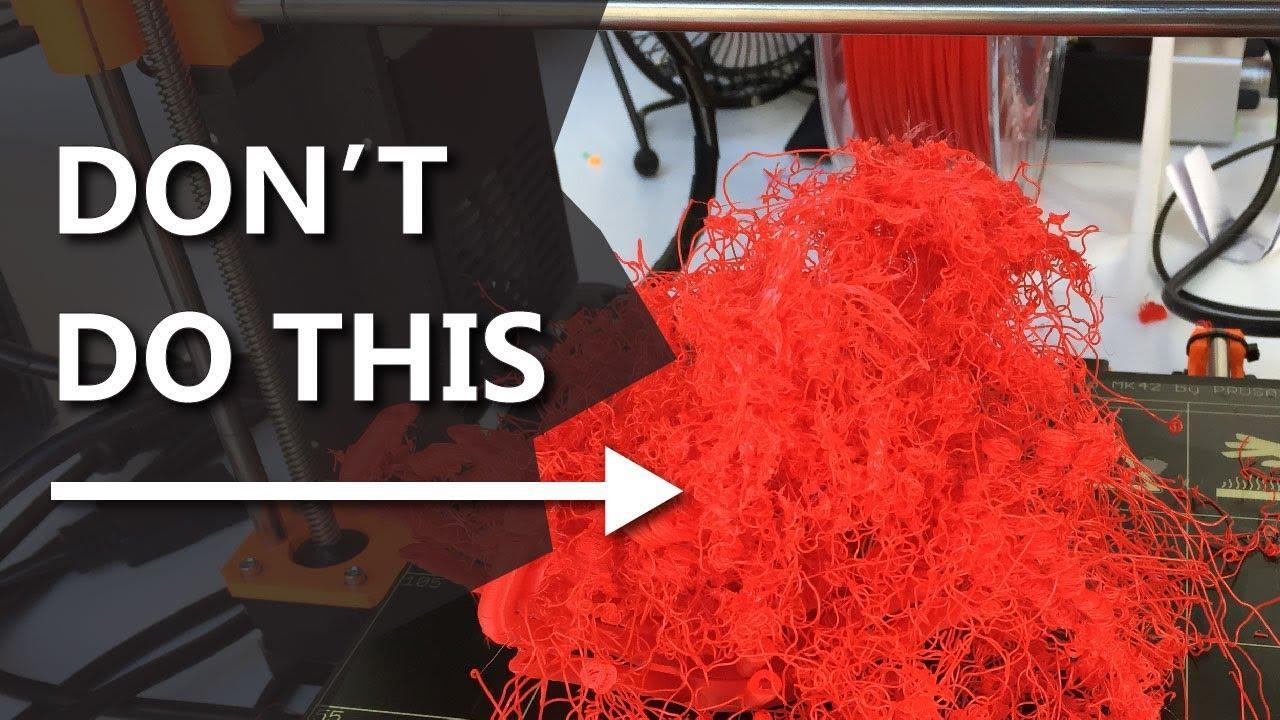Spaghetti: (553, 95, 1215, 719)
